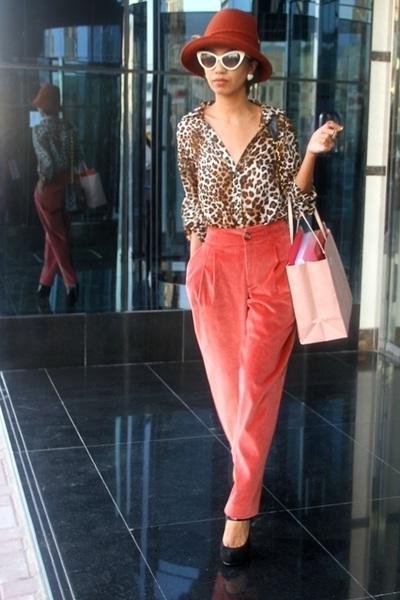long sleeve shirt: (178, 96, 318, 238)
trousers: (180, 213, 305, 519)
